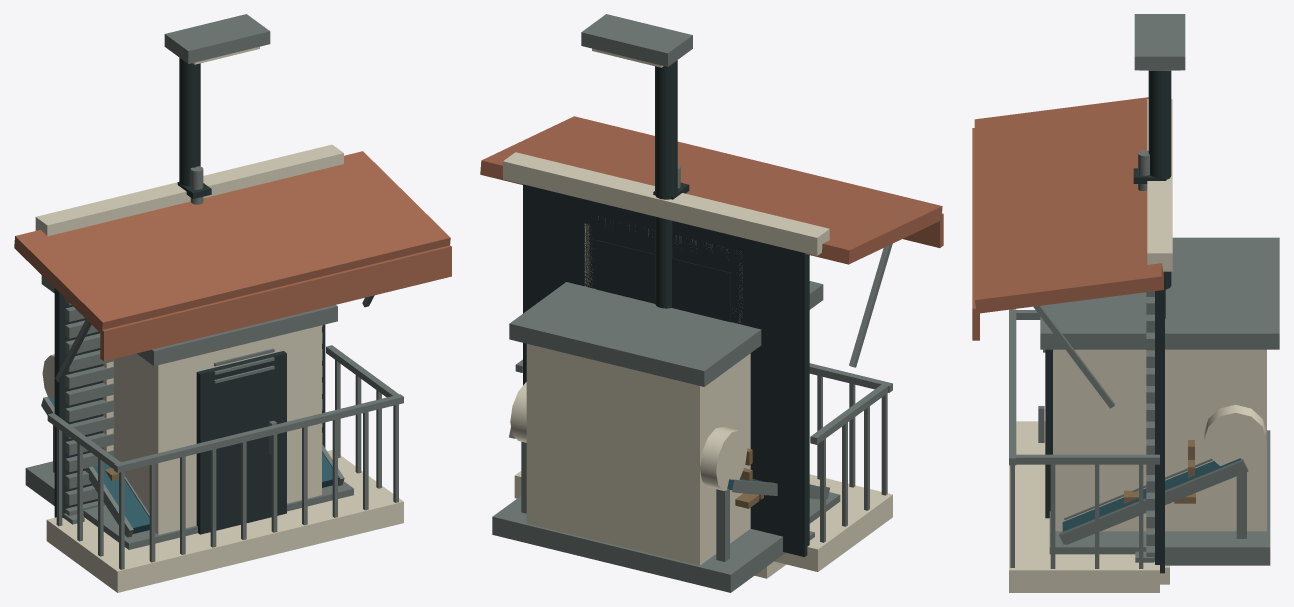
File: urban-fixtures.glb
3 renders of one model, left to right at view 1: azimuth 30°, elevation 25°; view 2: azimuth 150°, elevation 25°; view 3: azimuth 270°, elevation 25°, orthographic. The views are drawn at different scales.
Parts seen in each view (by area): view 1: shop-awning:terracotta, roof-hatch:pale, balcony:metal, balcony:pale, roof-hatch:dark, shutter:pale, shutter:metal, roof-hatch:metal, solar-heater:metal, shutter:dark, park-lamp:metal, park-lamp:dark (+2 smaller); view 2: roof-hatch:pale, shutter:dark, shop-awning:terracotta, roof-hatch:metal, solar-heater:metal, shutter:pale, door-frame:dark, balcony:metal, park-lamp:dark, balcony:pale, park-lamp:metal, solar-heater:pale (+1 smaller); view 3: shop-awning:terracotta, roof-hatch:pale, roof-hatch:metal, balcony:pale, solar-heater:metal, balcony:metal, solar-heater:pale, park-lamp:metal, shutter:dark, park-lamp:dark, shutter:pale, shutter:metal (+4 smaller).
Part boxes in pixels (box(x1,y1,x2,y2)): shop-awning:terracotta: box(14, 151, 451, 361); roof-hatch:pale: box(113, 325, 321, 534); balcony:metal: box(47, 345, 403, 569); balcony:pale: box(46, 450, 403, 592); roof-hatch:dark: box(196, 351, 286, 534); shutter:pale: box(35, 144, 343, 236); shutter:metal: box(65, 299, 322, 515); roof-hatch:metal: box(41, 275, 337, 455); solar-heater:metal: box(25, 396, 353, 549); shutter:dark: box(54, 288, 325, 517); park-lamp:metal: box(164, 14, 270, 63); park-lamp:dark: box(179, 57, 200, 186); roof-hatch:pale: box(526, 344, 750, 565); shutter:dark: box(523, 184, 809, 556); shop-awning:terracotta: box(480, 116, 943, 264); roof-hatch:metal: box(509, 281, 823, 386); solar-heater:metal: box(492, 427, 840, 592); shutter:pale: box(503, 152, 829, 255); door-frame:dark: box(596, 240, 730, 322); balcony:metal: box(515, 359, 892, 542); park-lamp:dark: box(655, 60, 677, 308); balcony:pale: box(514, 471, 892, 571); park-lamp:metal: box(581, 14, 692, 66); solar-heater:pale: box(510, 382, 747, 490); shop-awning:terracotta: box(972, 97, 1163, 340); roof-hatch:pale: box(1053, 349, 1266, 531); roof-hatch:metal: box(1038, 237, 1279, 442); balcony:pale: box(1009, 421, 1159, 592); solar-heater:metal: box(1049, 430, 1270, 565); balcony:metal: box(1009, 309, 1159, 568); solar-heater:pale: box(1204, 404, 1266, 466); park-lamp:metal: box(1134, 14, 1185, 70); shutter:dark: box(1155, 271, 1164, 573); park-lamp:dark: box(1148, 70, 1171, 289); shutter:pale: box(1147, 99, 1172, 271); shutter:metal: box(1146, 291, 1154, 561).
Size of the model in its own units: 3.4 by 4.49 by 2.44.
